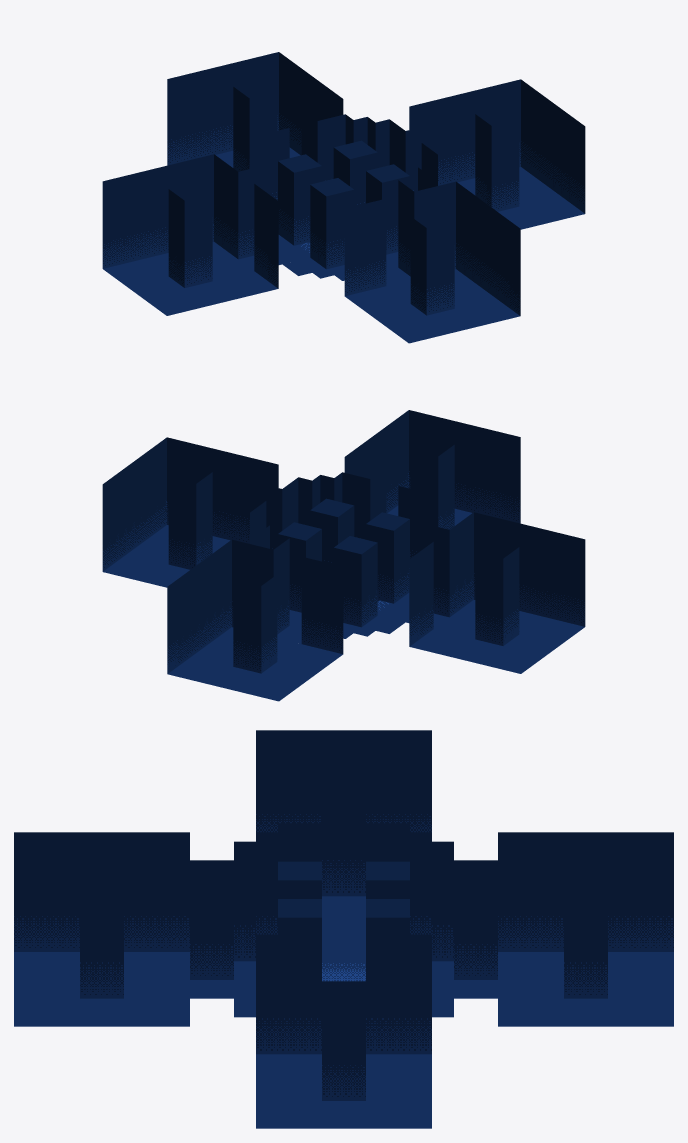
The model's file is map_2.gltf.
3 views of the same model, one above another, from view 1: azimuth 30°, elevation 25°; view 2: azimuth 150°, elevation 25°; view 3: azimuth 270°, elevation 25° (orthographic). The views are drawn at different scales.
Visible parts, largest first — view 1: default; view 2: default; view 3: default.
Boxes of the visible parts, box(x1,y1,x2,y2) form: default: box(102, 52, 585, 343); default: box(102, 410, 585, 701); default: box(14, 730, 673, 1128).
Bounding box in the file's own units: 30 × 6.5 × 30.
Materials: 1 (1 with a texture image).
